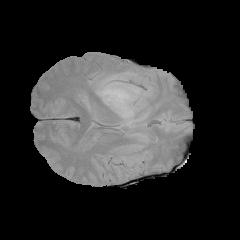glioma: (87, 71, 149, 118)
